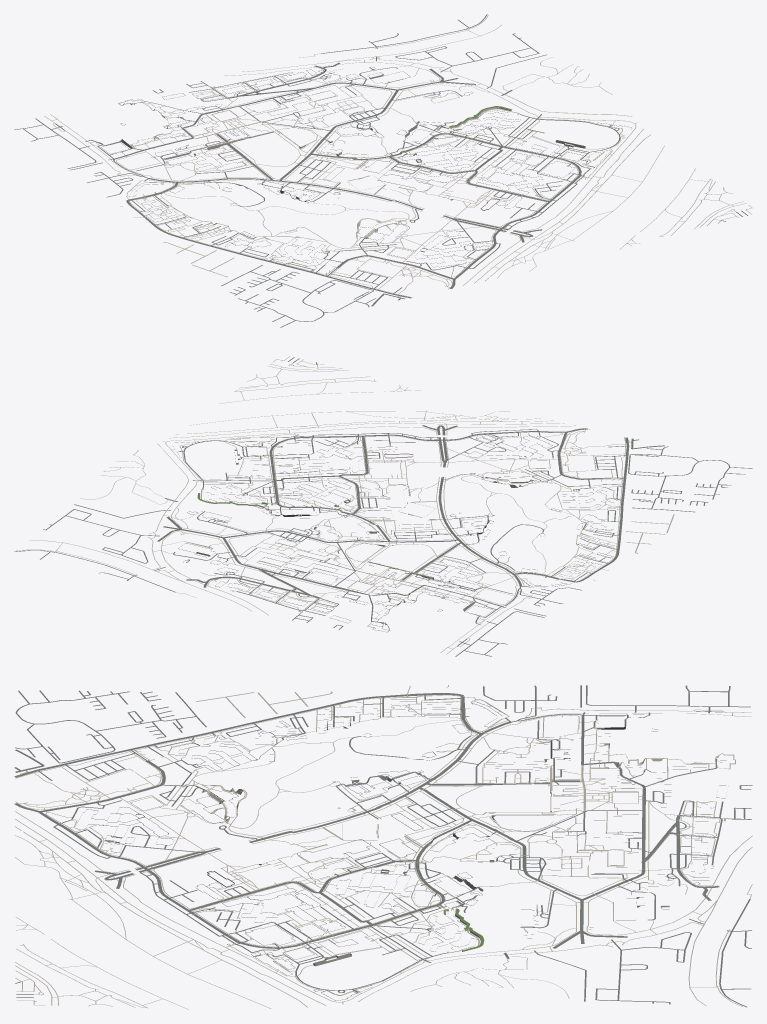
The picture shows the model from 3 angles, top to bottom: view 1: azimuth 30°, elevation 25°; view 2: azimuth 150°, elevation 25°; view 3: azimuth 270°, elevation 25°; orthographic projection. The views are drawn at different scales.
Visible parts, largest first — view 1: kaist-paving-overlay, kaist-asphalt-overlay, site-concrete; view 2: kaist-paving-overlay, kaist-asphalt-overlay, site-concrete; view 3: kaist-paving-overlay, kaist-asphalt-overlay, site-concrete.
Boxes of the visible parts, left/top/right/bottom form: kaist-paving-overlay: left=44, top=15, right=752, bottom=297; kaist-asphalt-overlay: left=14, top=14, right=747, bottom=327; site-concrete: left=90, top=67, right=631, bottom=267; kaist-paving-overlay: left=16, top=356, right=674, bottom=654; kaist-asphalt-overlay: left=14, top=357, right=752, bottom=656; site-concrete: left=173, top=434, right=617, bottom=630; kaist-paving-overlay: left=15, top=685, right=752, bottom=1009; kaist-asphalt-overlay: left=14, top=685, right=752, bottom=1007; site-concrete: left=75, top=699, right=734, bottom=1000.
Size of the model in its own units: 1378 by 49.53 by 1370.
Materials: 18 (4 with a texture image).
